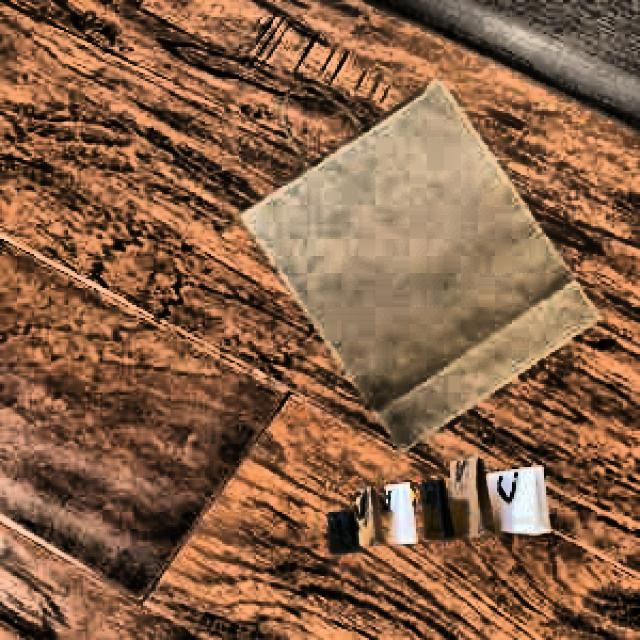Paper-bag: (242, 72, 600, 460), (320, 460, 561, 552)
